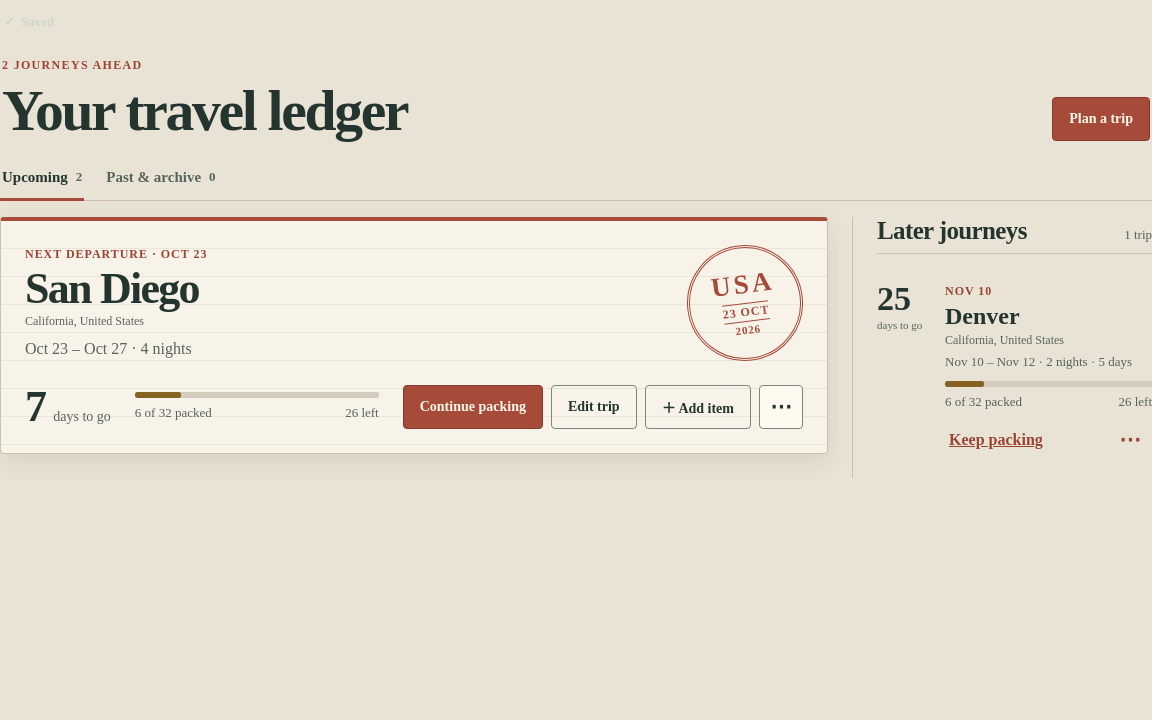
Test: Remove on Later journeys and Past & archive cards › removes a Later journey after confirming, and offers Undo
Click the button named "More actions for Denver" at [1130, 440], box [1108, 418, 1151, 462]
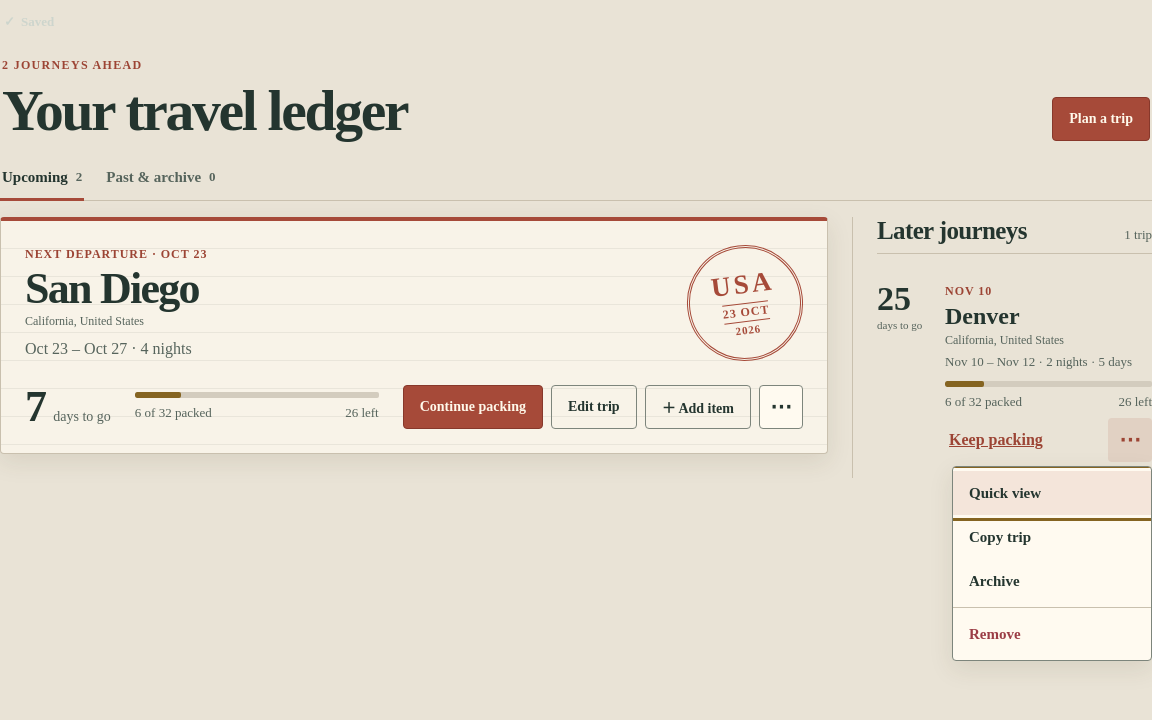
Click the menu item "Remove" at [1052, 634], box [953, 612, 1151, 656]
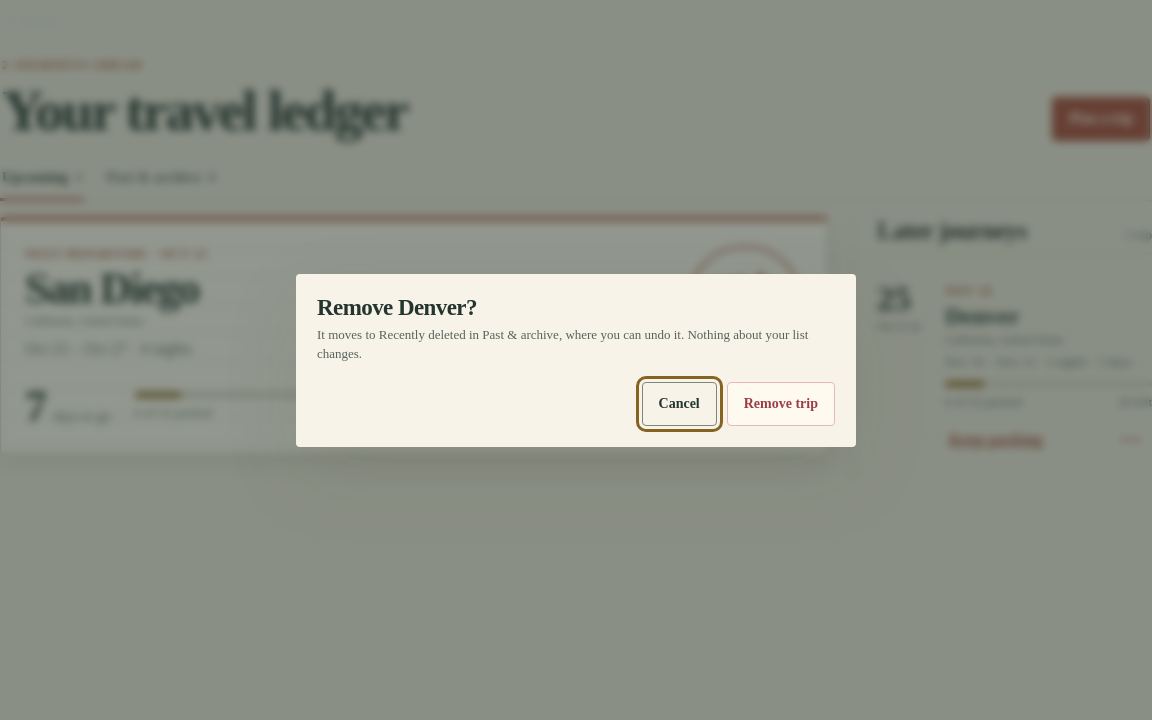
Click the button "Remove trip" at [781, 404], box [727, 382, 835, 426]
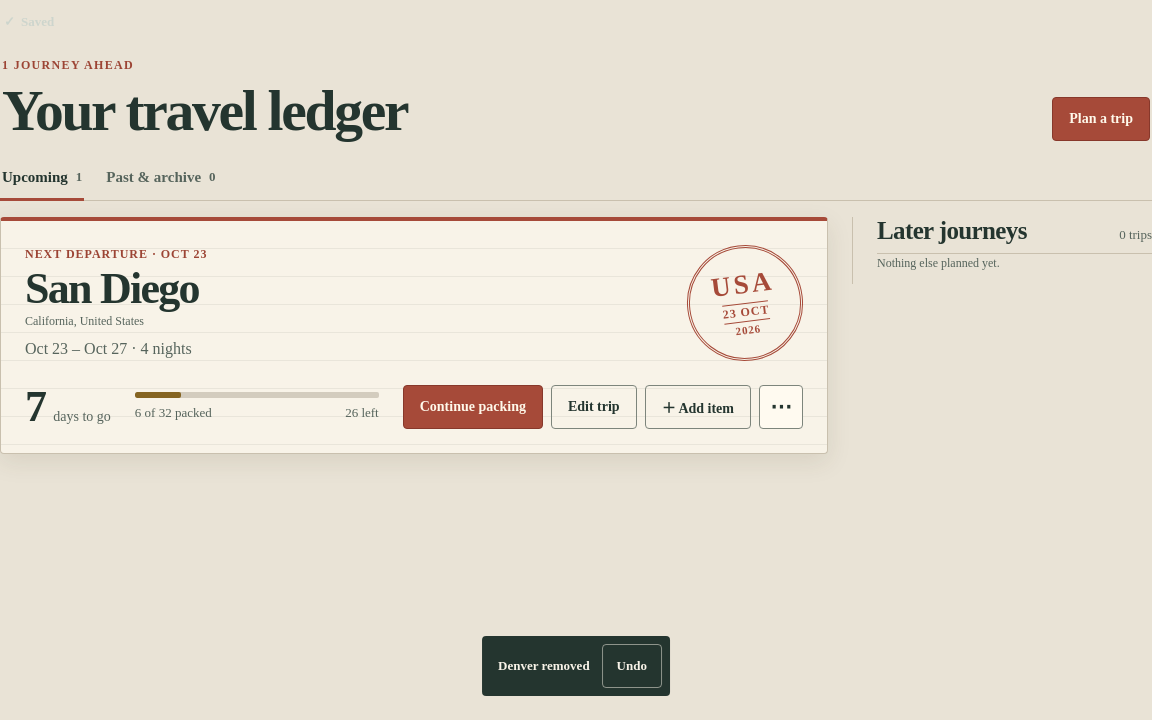
Expected: the text "Nothing else planned yet." is shown, [877, 256, 1000, 270]
